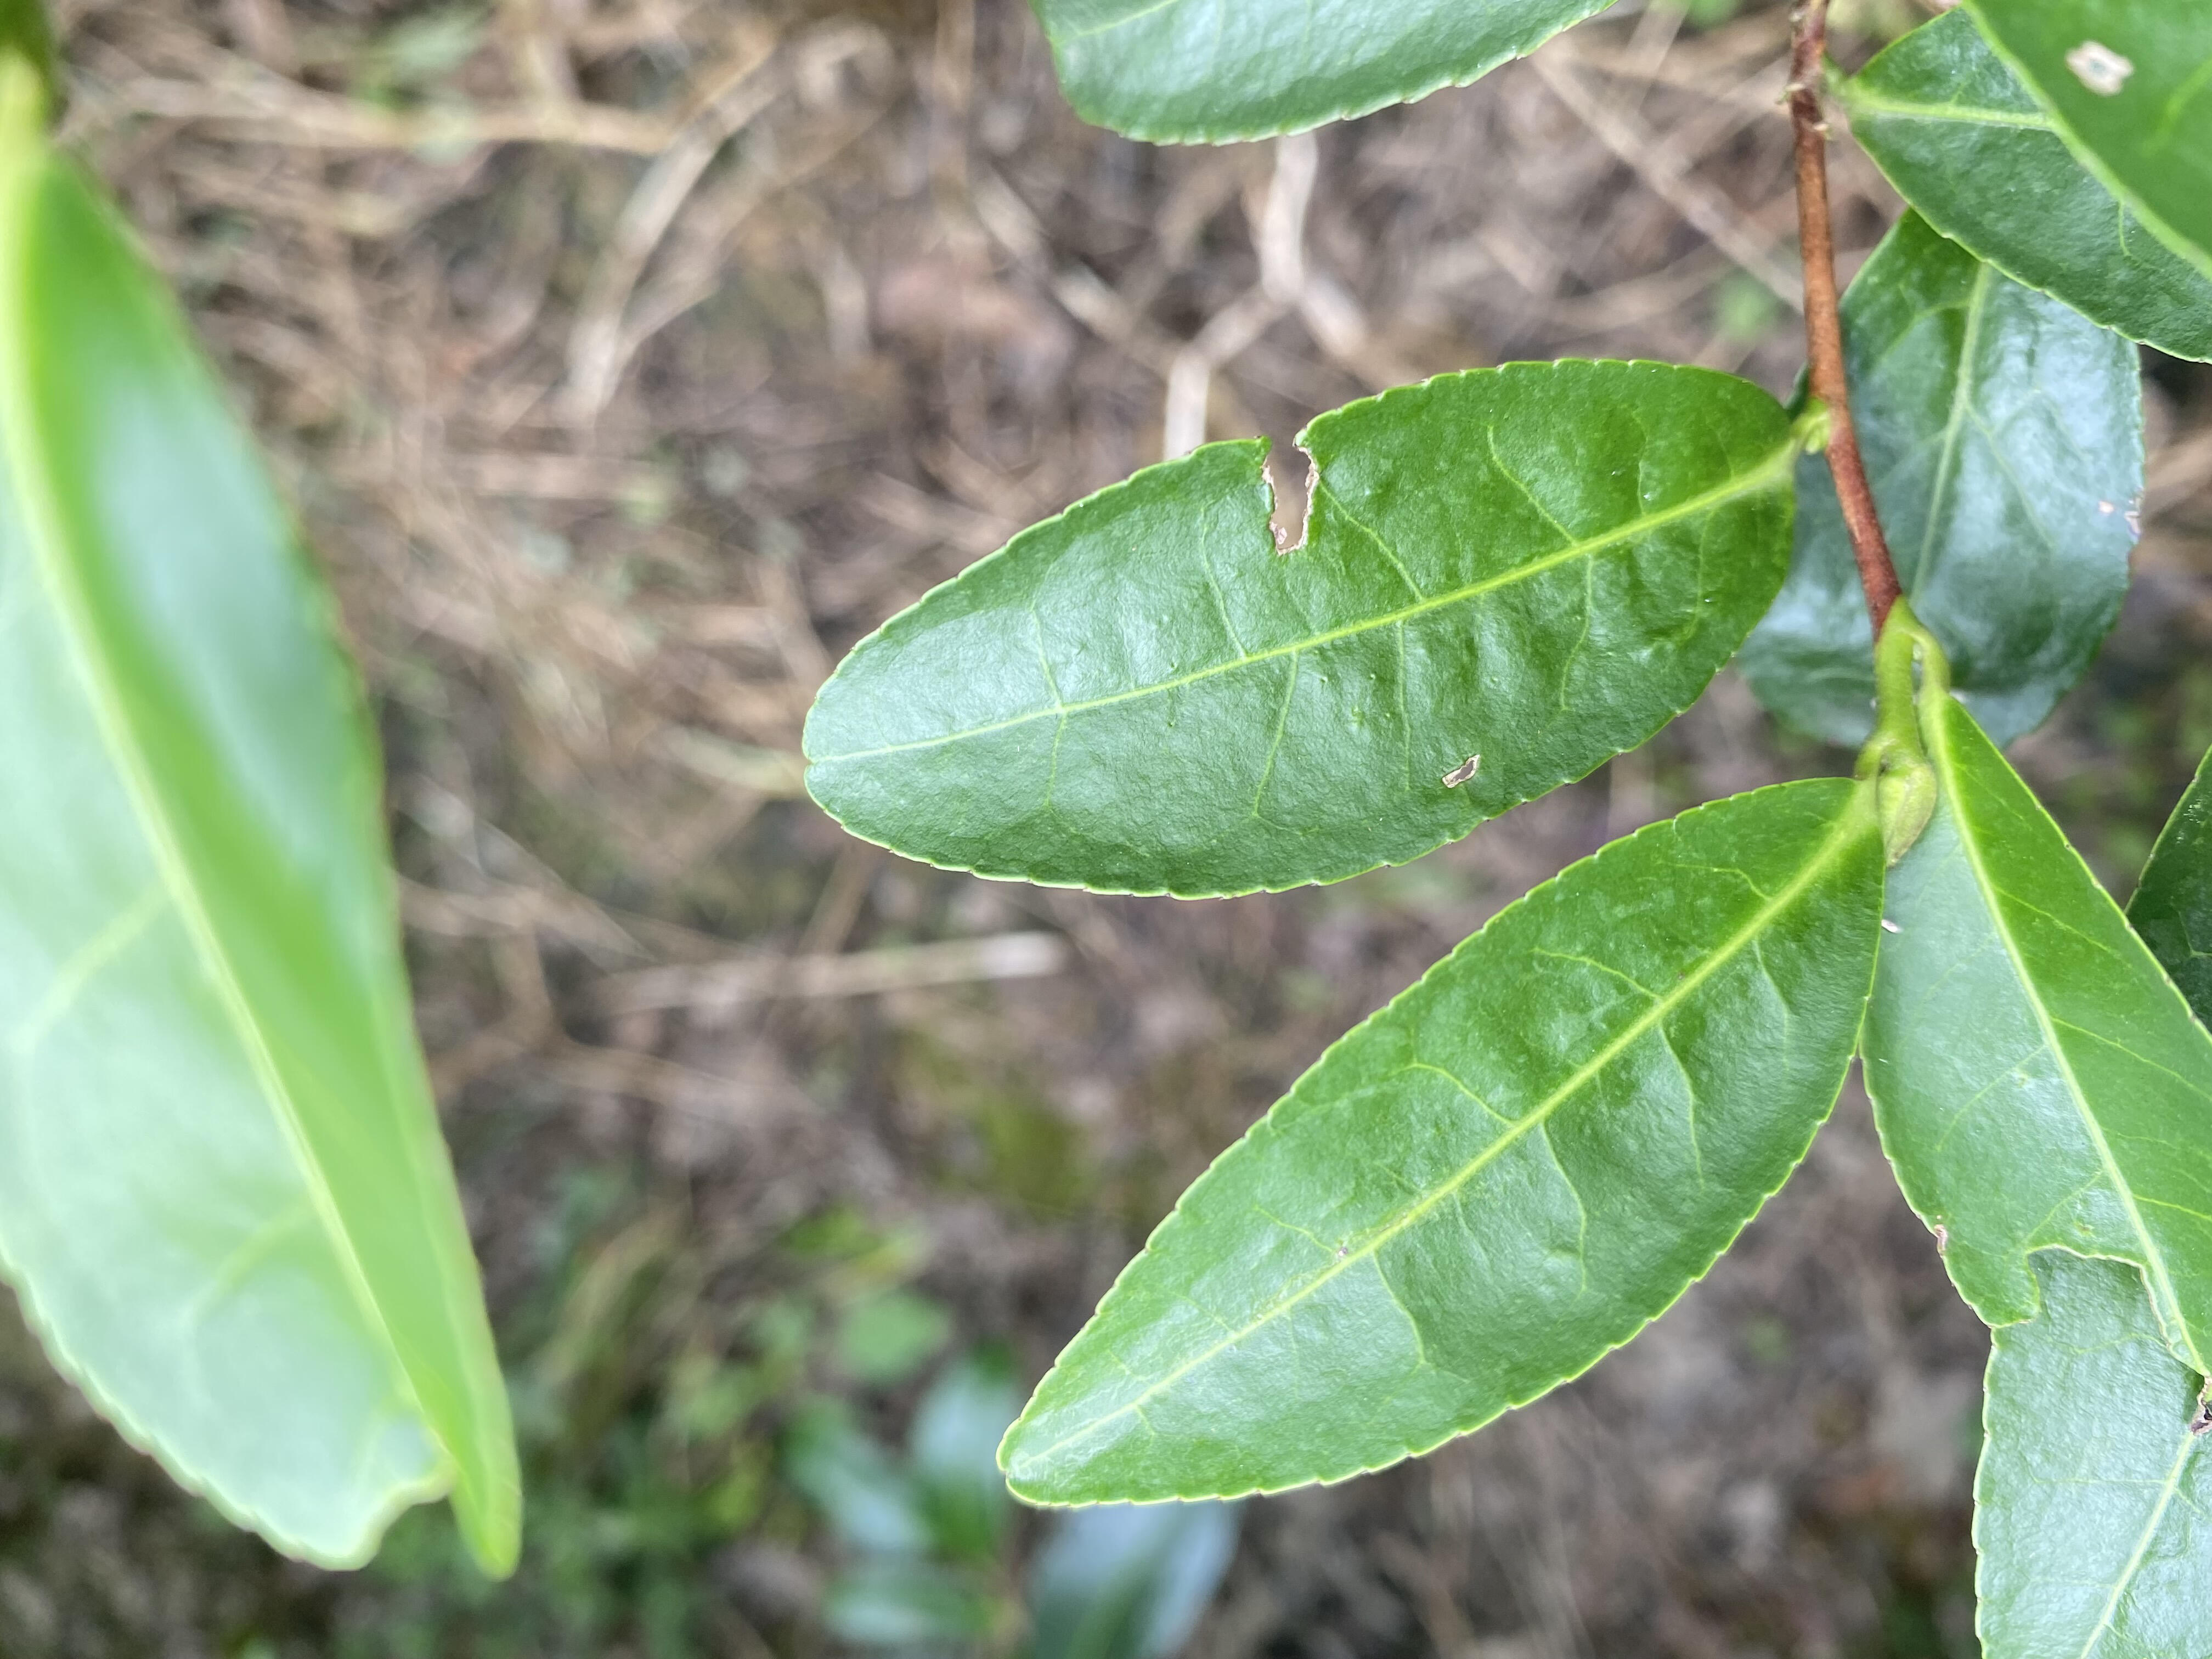chihuo_low: (803, 354, 1796, 908), (1860, 695, 2209, 1375)
healthy: (996, 774, 1893, 1516)
